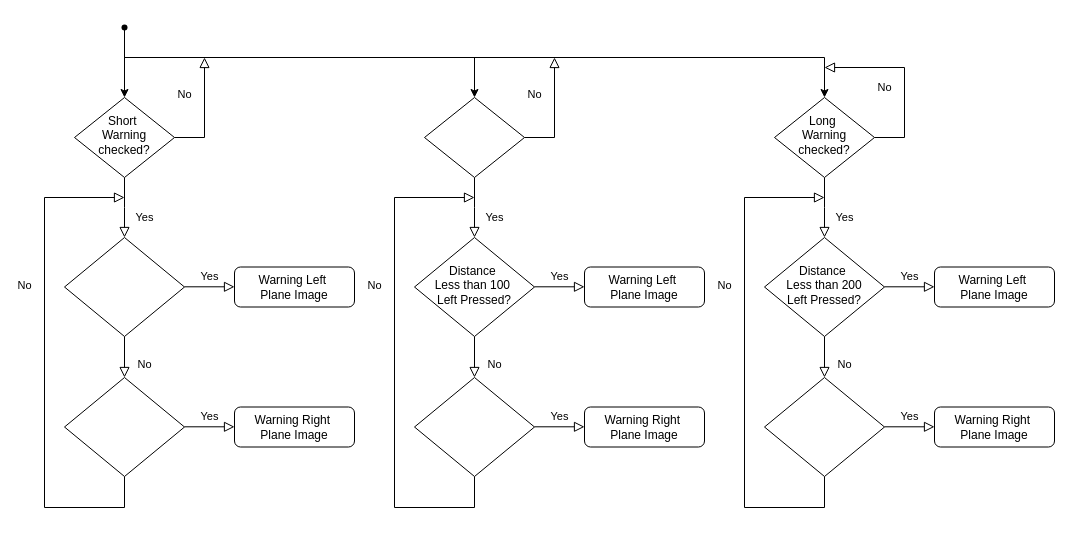
Some shapes in this 1072 by 535 pixel diagram are drawn without their labels. The shapes that lost their labels are listed below. From the top down, each one's centre as x and y in pixels, then its label:
At [474,137]: "Medium Warning checked?".
At [124,286]: "Distance Less than 50 Left Pressed?".
At [124,426]: "Distance Less than 50 Right Pressed?".
At [474,426]: "Distance Less than 100 Right Pressed?".
At [824,426]: "Distance Less than 200 Right Pressed?".
